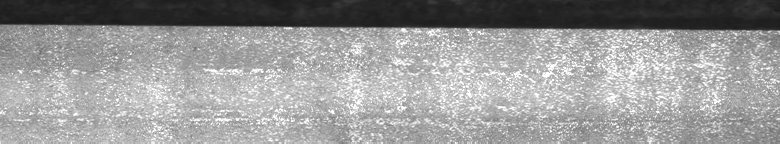kb: (4, 20, 776, 135)
